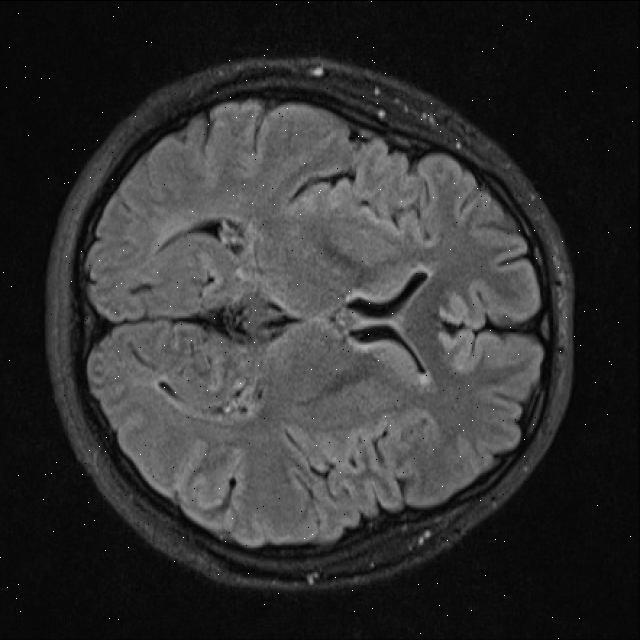No_Tumor: (48, 60, 573, 588)
